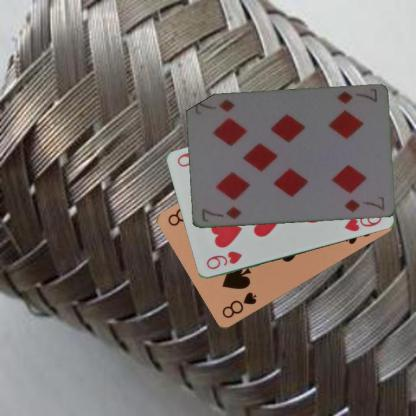7d: (198, 204, 242, 224), (334, 86, 378, 106)
8s: (219, 290, 258, 320)
9h: (204, 248, 244, 271)
